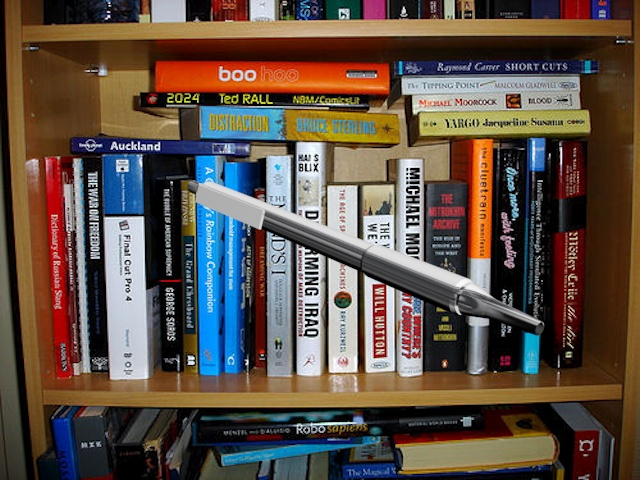pen: (185, 177, 552, 336)
